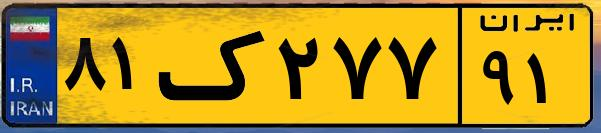1: (525, 38, 570, 115), (110, 28, 158, 98)
2: (270, 28, 330, 110)
7: (385, 28, 445, 110), (330, 28, 385, 110)
8: (57, 26, 110, 100)
9: (475, 38, 525, 113)
ک: (158, 12, 270, 120)
